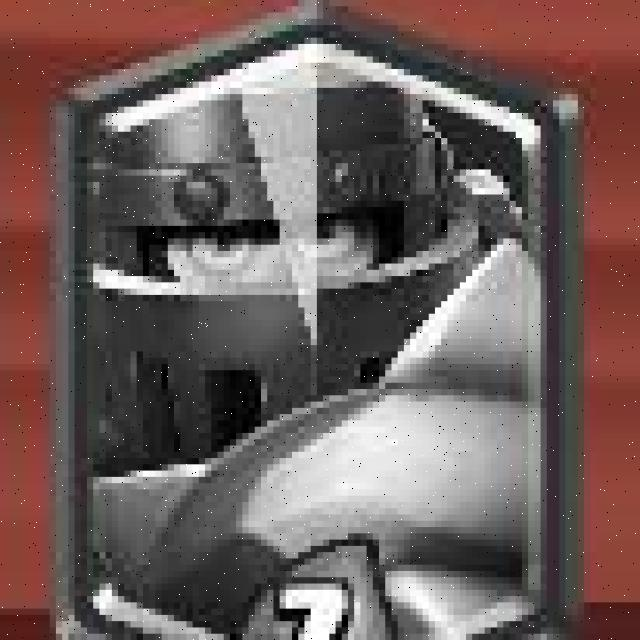Mega_Knight: (61, 4, 578, 640)
